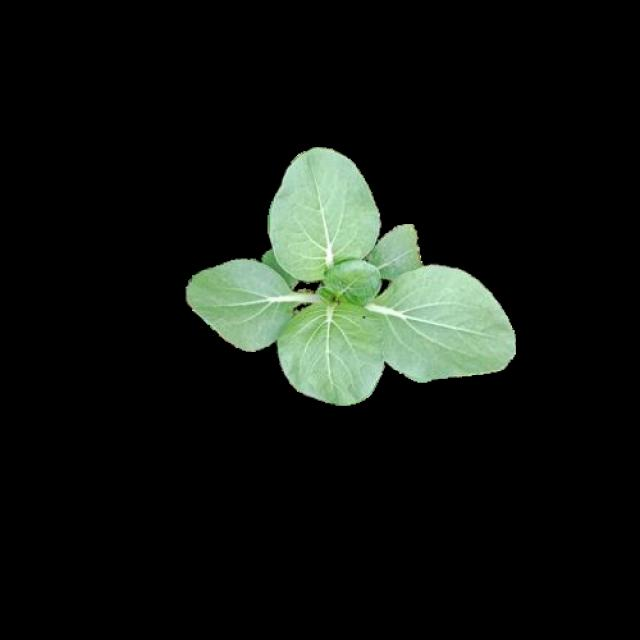healthy: (183, 145, 512, 398)
not-mature: (186, 147, 514, 401)
